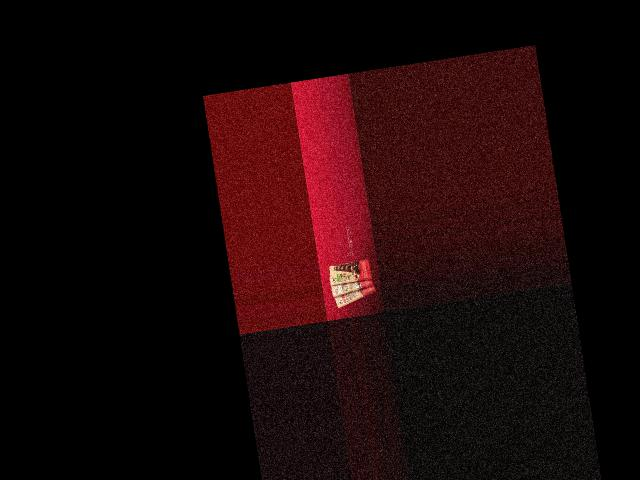chocolate: (330, 280, 379, 308)
